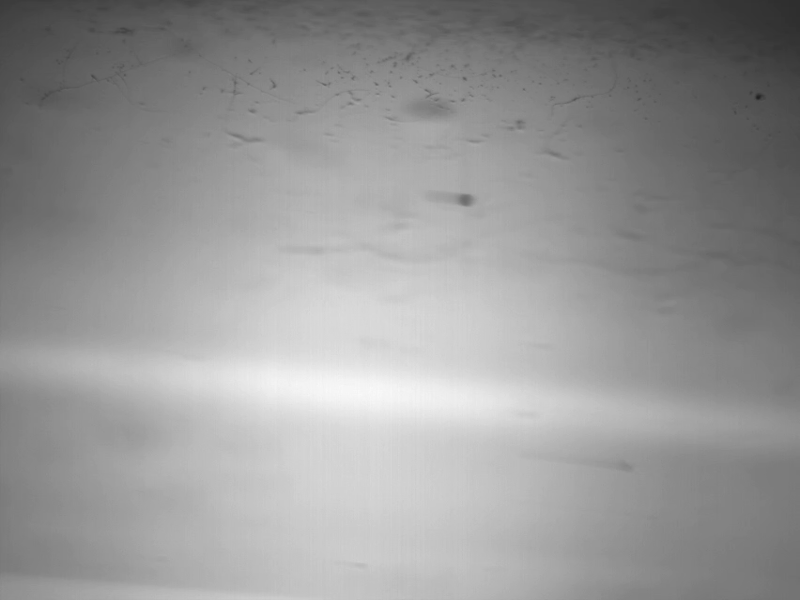bead: (456, 191, 479, 208)
fiber: (514, 444, 639, 477)
